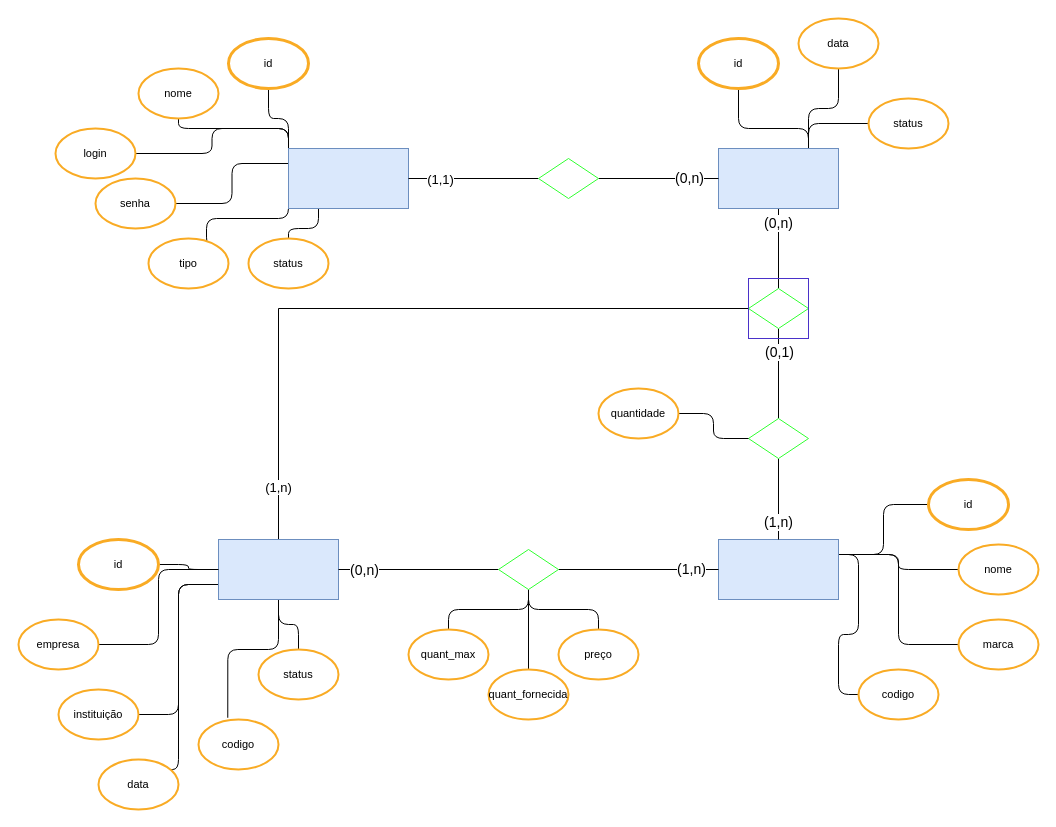
This 1056x827 diagram has some shape labels left out. Here are the shapes that lost their labels. From the top down, the centre of each, then its label:
pixel 348 178: USUARIO
pixel 778 178: PEDIDO
pixel 278 569: LICITAÇÃO
pixel 778 569: PRODUTO
